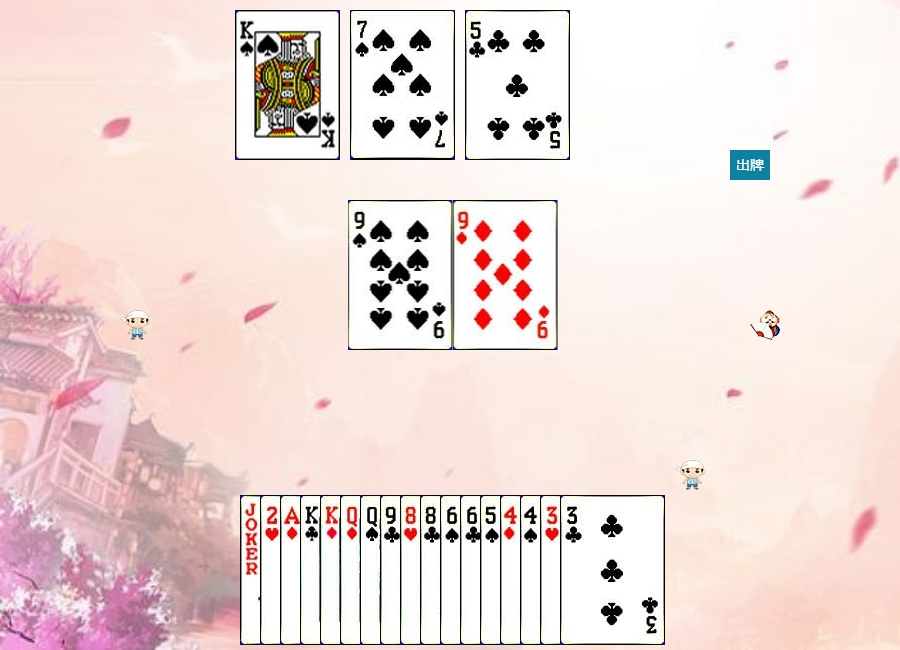12~1: (340, 495, 445, 645)
12~4: (360, 495, 465, 645)
13~1: (320, 495, 425, 645)
13~2: (300, 495, 405, 645)
13~4: (235, 10, 340, 160)
14~1: (280, 495, 385, 645)
15~3: (260, 495, 365, 645)
18~4: (240, 495, 345, 645)
3~2: (560, 495, 665, 645)
3~3: (540, 495, 645, 645)
4~1: (500, 495, 605, 645)
4~4: (520, 495, 625, 645)
5~2: (465, 10, 570, 160)
5~4: (480, 495, 585, 645)
6~2: (460, 495, 565, 645)
6~4: (440, 495, 545, 645)
7~4: (350, 10, 455, 160)
8~2: (420, 495, 525, 645)
8~3: (400, 495, 505, 645)
9~1: (453, 200, 558, 350)
9~2: (380, 495, 485, 645)
9~4: (348, 200, 453, 350)
